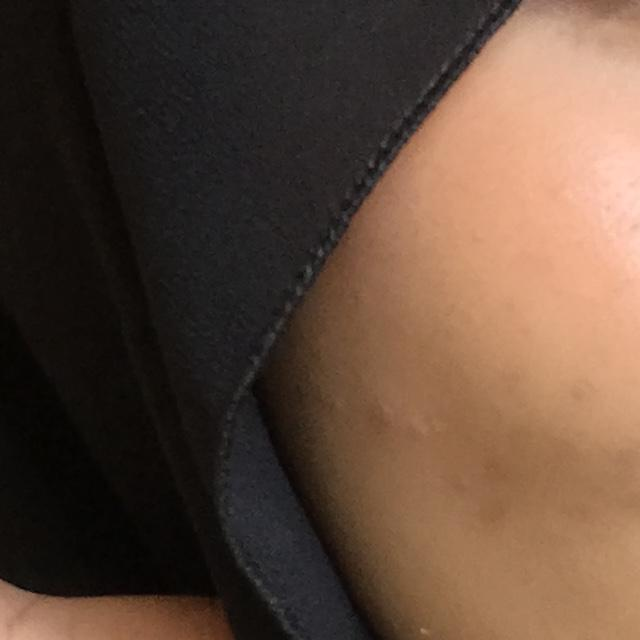mendengar: (0, 0, 490, 640)
